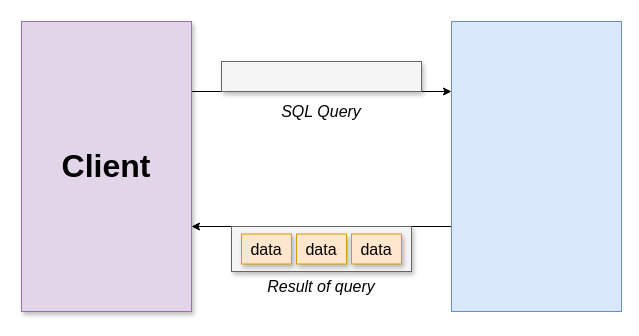
This 639x336 diagram has some shape labels left out. Each missing label, with the centre of its shape:
"PostgreSQL Database" belongs at point (536, 166).
"SELECT * FROM data;....." belongs at point (322, 77).
